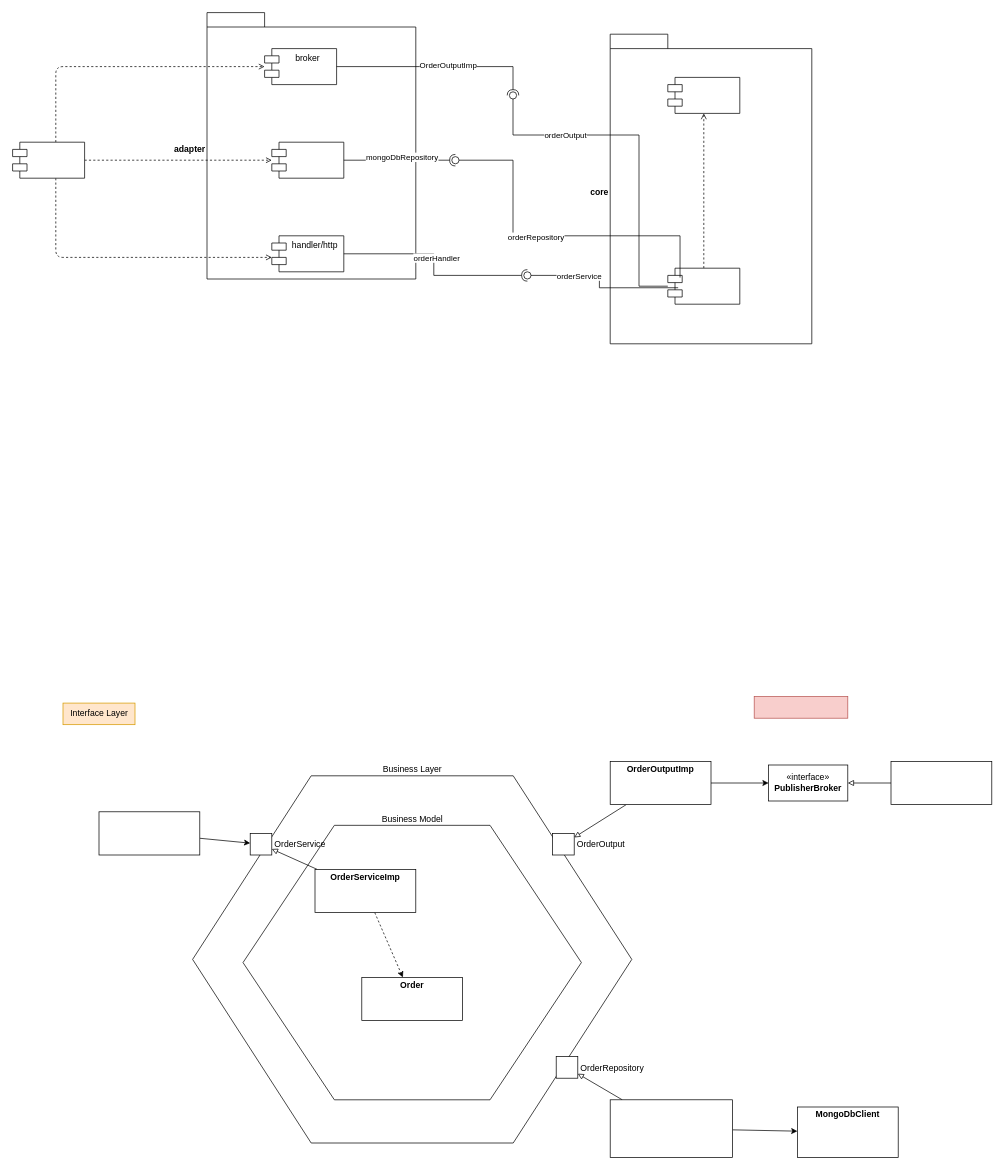
The diagram is 1004 pixels wide and 1170 high, and some of its shapes have lost their labels. Each missing label, with the centre of its shape:
database: the point at 307,159
domain: the point at 703,95
HttpHandler: the point at 149,833
Infraestructure Layer: the point at 800,707
main: the point at 48,159
OrderMongoDbRepository: the point at 671,1128
port: the point at 703,285
RabbitMQBroker: the point at 941,783
